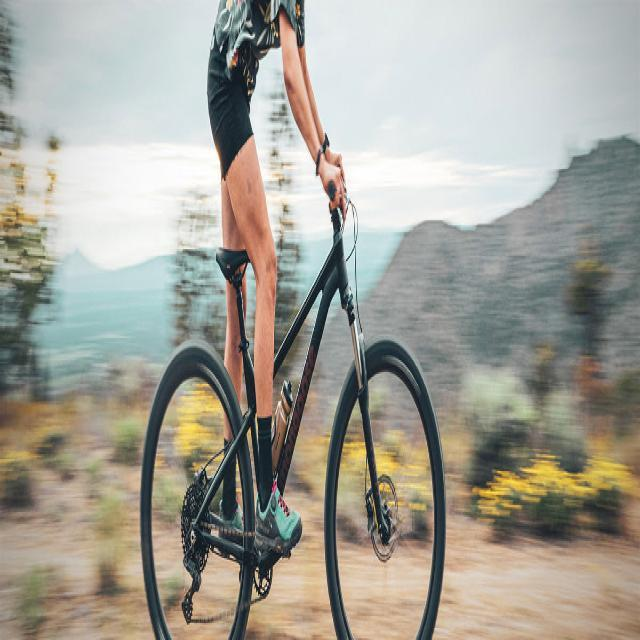bike: (140, 170, 446, 636)
